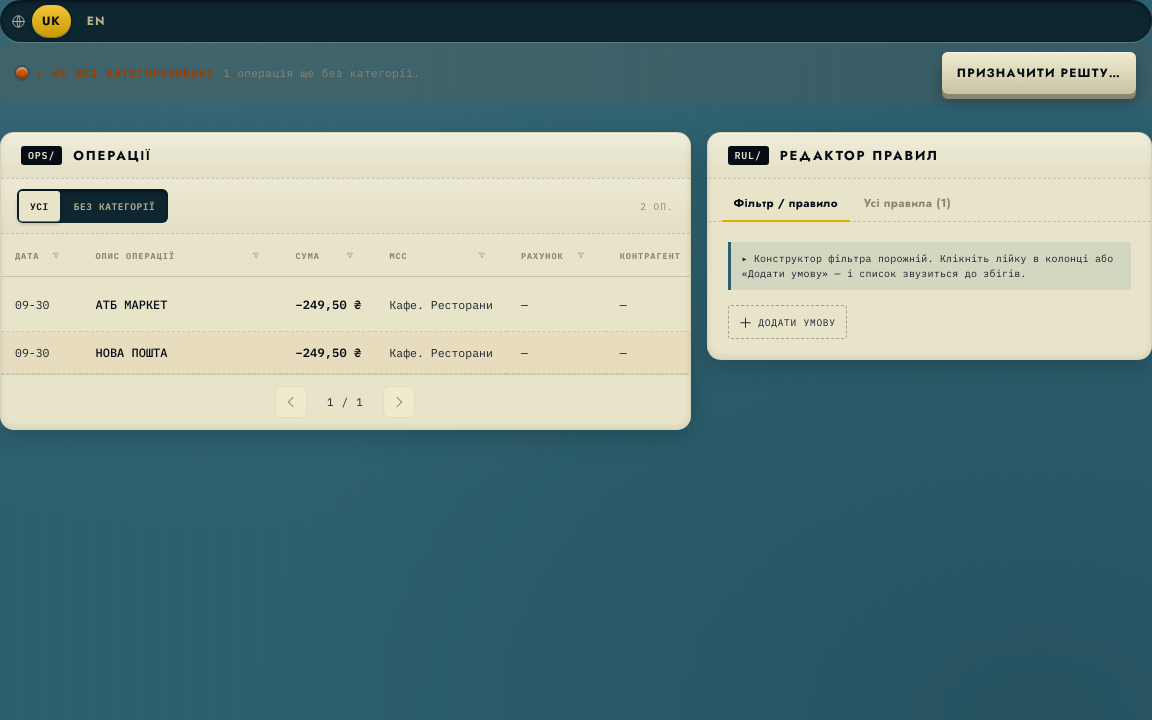
Test: S3cCategorize › flipping LangToggle re-localizes the MCC column title while operation content stays verbatim (HC-6)
Check: the button "Усі" is shown, box [19, 191, 60, 221]
Check: the text "АТБ МАРКЕТ" is shown, box [96, 296, 168, 312]
Note: flip to EN
Click the button "EN" at (96, 21), box [77, 5, 115, 37]
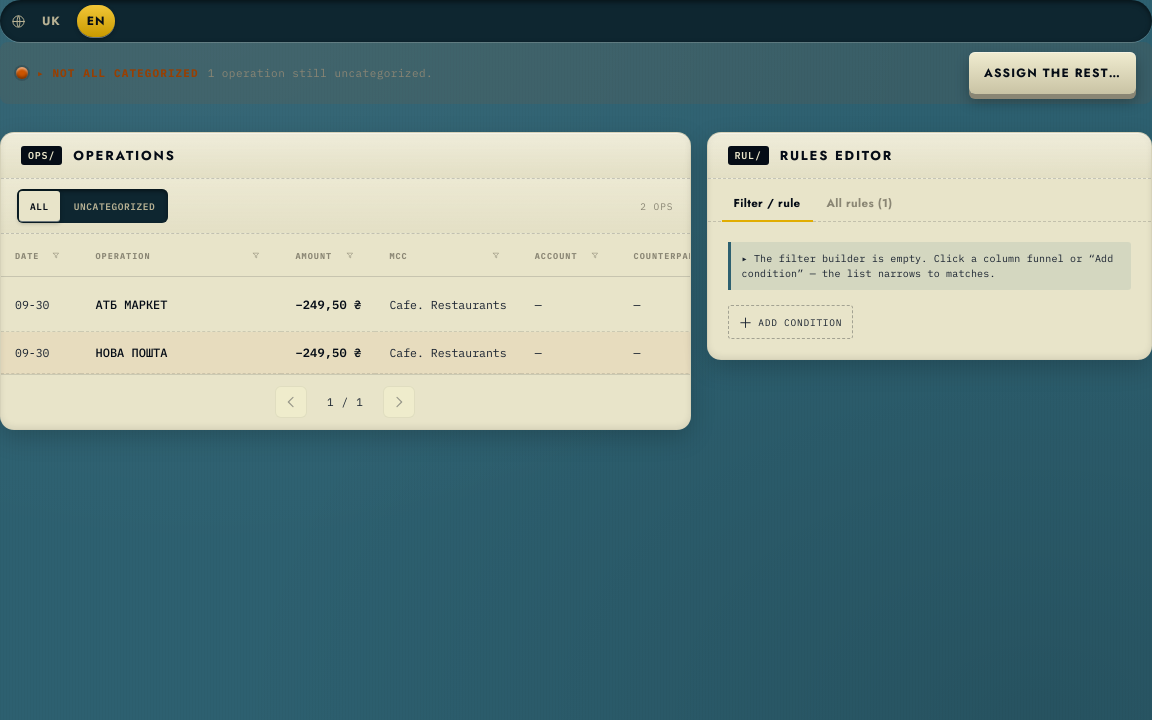
Check: the text "АТБ МАРКЕТ" is shown, box [96, 296, 168, 312]
Check: the text "Cafe. Restaurants" is shown, box [375, 276, 521, 332]
Check: the button "All" is shown, box [19, 191, 60, 221]
